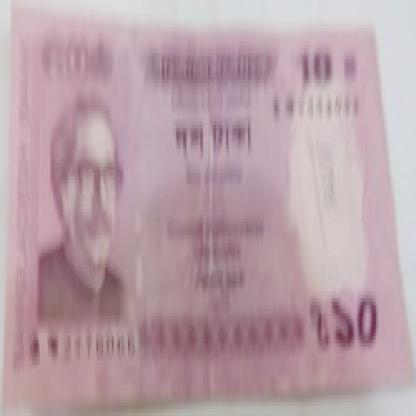Ten Taka: (325, 266, 391, 356), (48, 35, 102, 94), (300, 38, 334, 97)
